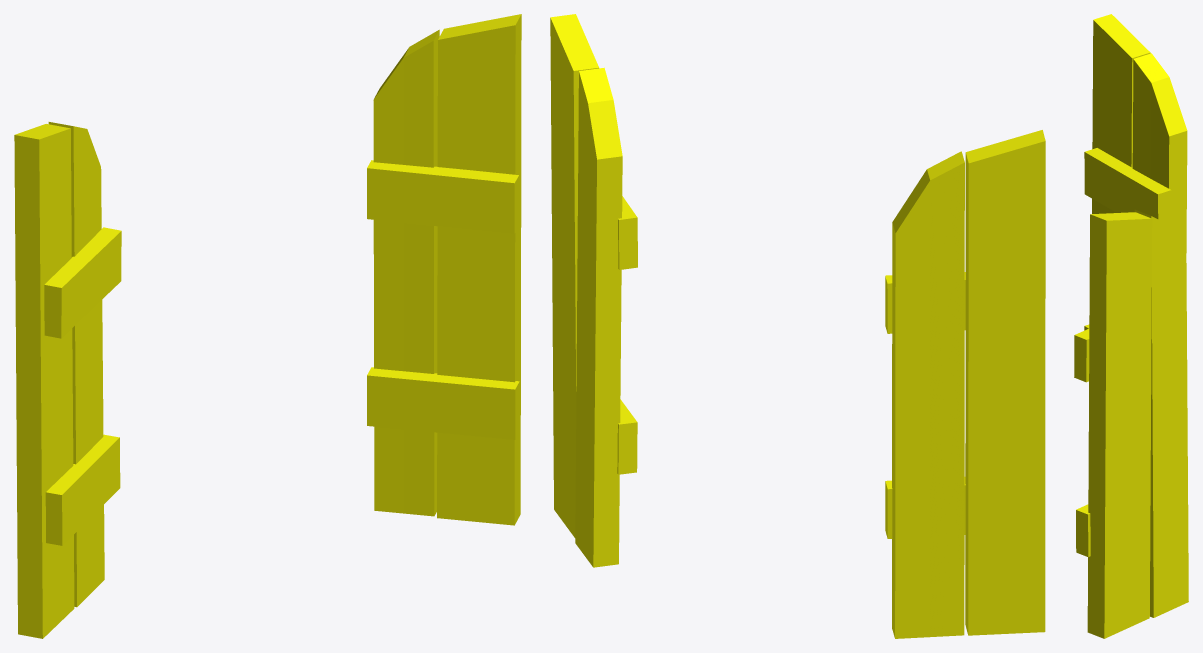
The model's file is windowshutters-thin-round-open.glb.
The picture shows the model from 3 angles, left to right: view 1: azimuth 30°, elevation 25°; view 2: azimuth 150°, elevation 25°; view 3: azimuth 270°, elevation 25°; orthographic projection. The views are drawn at different scales.
Visible parts, largest first — view 1: WindowShutters_Thin_Round_Open; view 2: WindowShutters_Thin_Round_Open; view 3: WindowShutters_Thin_Round_Open.
Boxes of the visible parts, x1=… form: WindowShutters_Thin_Round_Open: x1=14, y1=14, x2=521, y2=638; WindowShutters_Thin_Round_Open: x1=550, y1=14, x2=1045, y2=638; WindowShutters_Thin_Round_Open: x1=1074, y1=14, x2=1188, y2=638.
Size of the model in its own units: 1.61 by 1.52 by 0.3765.
1 material, 1 textured.
